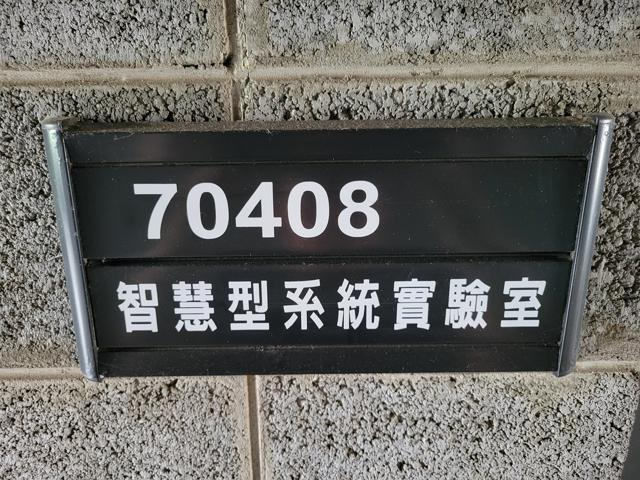doorplate: (30, 101, 624, 384)
